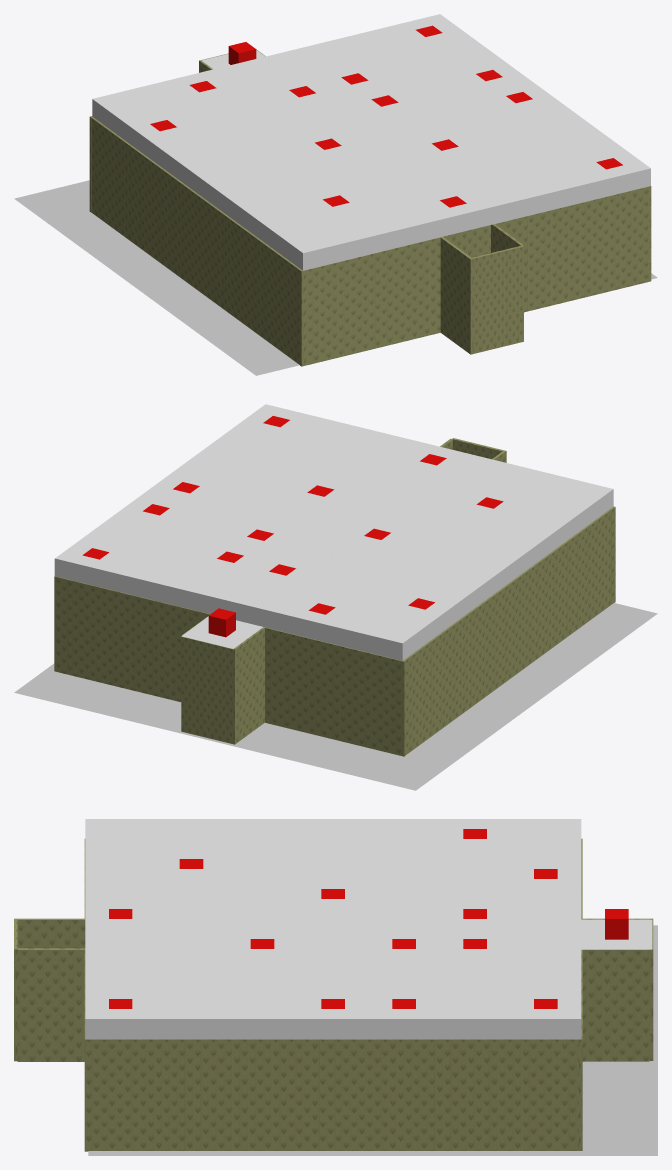
The model's file is labyrinthedecon - Copie.fbx.
3 renders of one model, top to bottom at view 1: azimuth 30°, elevation 25°; view 2: azimuth 150°, elevation 25°; view 3: azimuth 270°, elevation 25°, orthographic. The views are drawn at different scales.
Visible parts, largest first — view 1: Cube.036, Cube.060, Cube.061, Plane, Cube.063, Cube.062, Cube.053, toitcub.400, Cube.064; view 2: Cube.036, Plane, Cube.035, Cube.040, Cube.038, Cube.034, toitcub, Cube.003, Cube.063; view 3: Cube.044, Plane, Cube.064, Cube.039, Cube.062, toitcub.019, toitcub.119, toitcub.179, toitcub.279, toitcub.339, Cube.003, toitcub.039 (+18 smaller).
Part boxes in pixels (box(x1,y1,x2,y2)): Cube.036: box(91, 117, 303, 366); Cube.060: box(301, 237, 440, 365); Cube.061: box(495, 186, 648, 312); Plane: box(14, 180, 657, 375); Cube.063: box(472, 245, 523, 353); Cube.062: box(440, 236, 473, 354); Cube.053: box(443, 225, 490, 257); toitcub.400: box(293, 241, 320, 270); Cube.064: box(491, 224, 523, 252); Cube.036: box(404, 506, 615, 754); Plane: box(14, 603, 657, 790); Cube.035: box(264, 627, 405, 756); Cube.040: box(54, 576, 210, 701); Cube.038: box(181, 636, 232, 743); Cube.034: box(232, 627, 264, 744); toitcub: box(385, 632, 412, 660); Cube.003: box(208, 608, 235, 637); Cube.063: box(452, 438, 503, 459); Cube.044: box(84, 1038, 578, 1151); Plane: box(88, 925, 657, 1155); Cube.064: box(17, 948, 85, 1061); Cube.039: box(581, 949, 649, 1061); Cube.062: box(14, 918, 85, 948); toitcub.019: box(557, 1009, 581, 1039); toitcub.119: box(439, 1009, 463, 1039); toitcub.179: box(368, 1009, 392, 1039); toitcub.279: box(250, 1009, 274, 1039); toitcub.339: box(179, 1009, 203, 1039); Cube.003: box(605, 909, 628, 939); toitcub.039: box(534, 1009, 557, 1039).
Size of the model in its own units: 6182 by 1658 by 7294.
